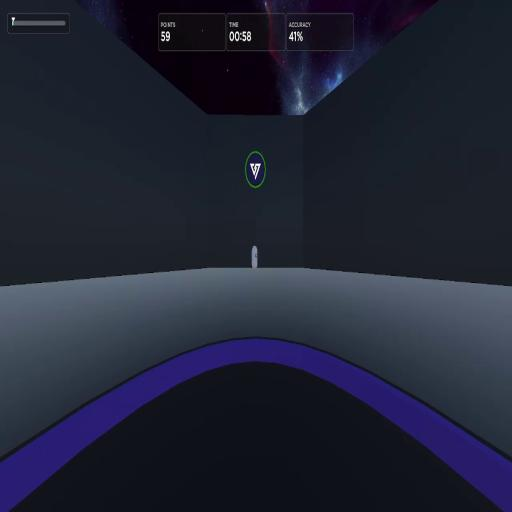Crosshair: (256, 254, 258, 258)
Target: (251, 245, 258, 269)
